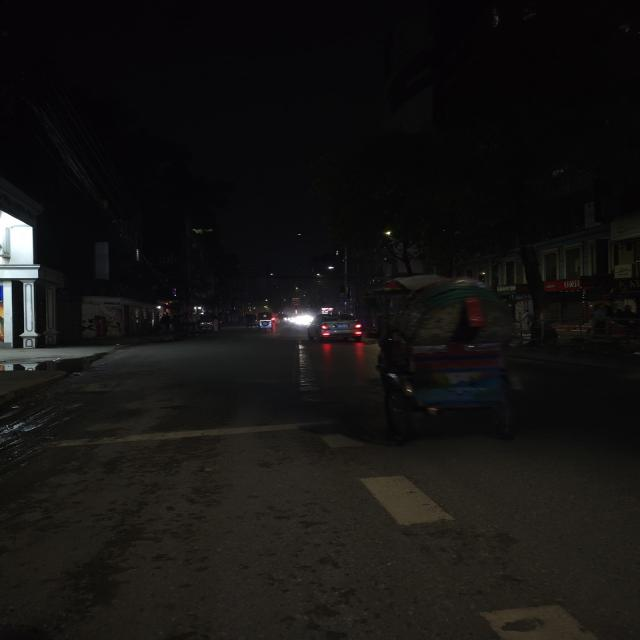car: (306, 311, 368, 344)
rickshaw: (368, 270, 536, 449), (254, 312, 278, 332), (242, 310, 260, 330)
